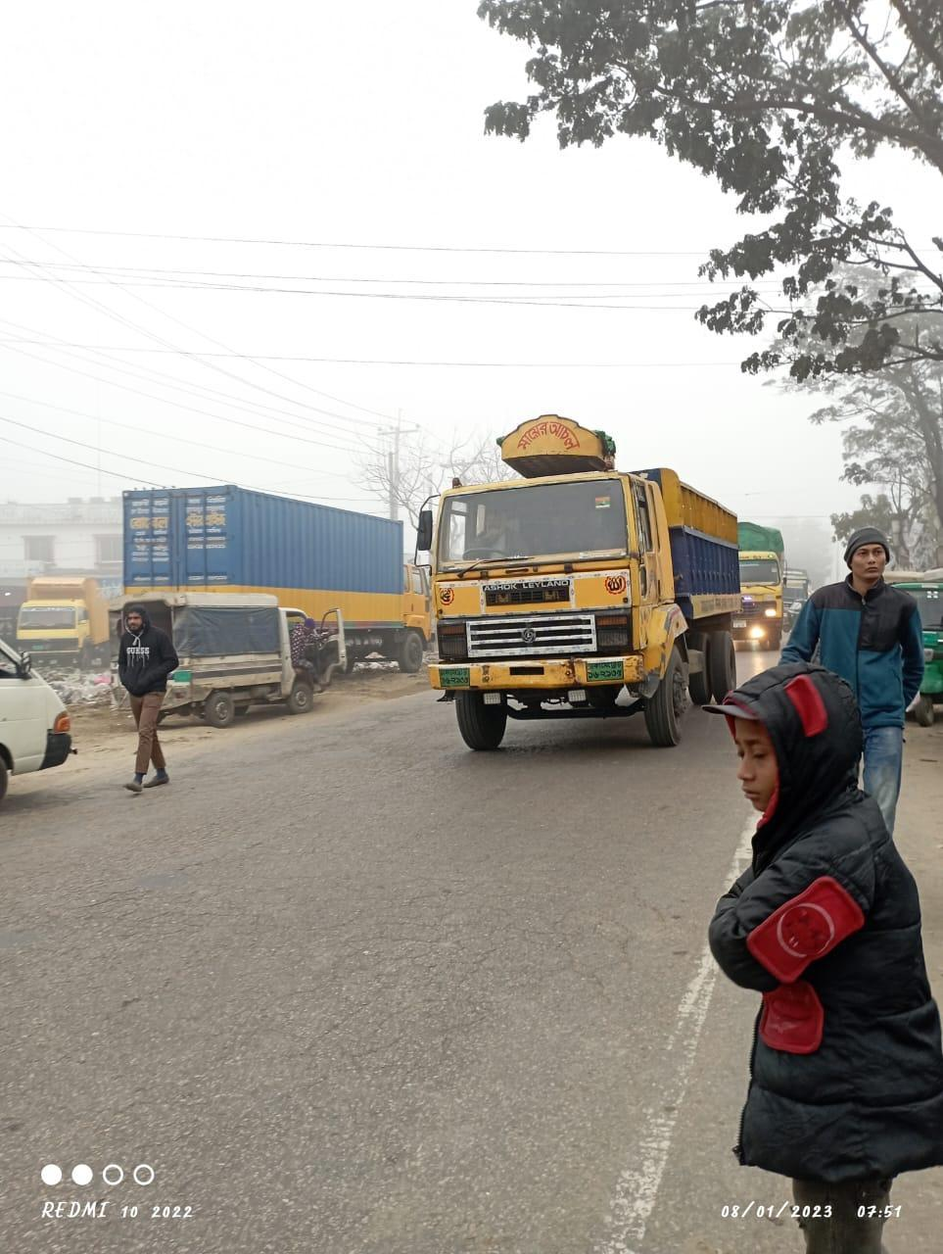Car: (139, 579, 343, 718), (2, 616, 84, 806)
Truck: (405, 408, 744, 749), (118, 458, 428, 663), (736, 513, 793, 654), (21, 572, 100, 654)
